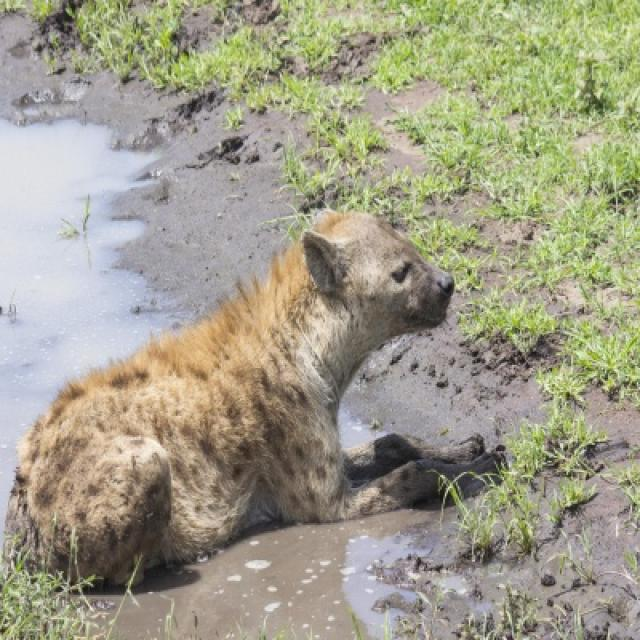hyena: (3, 213, 496, 590)
